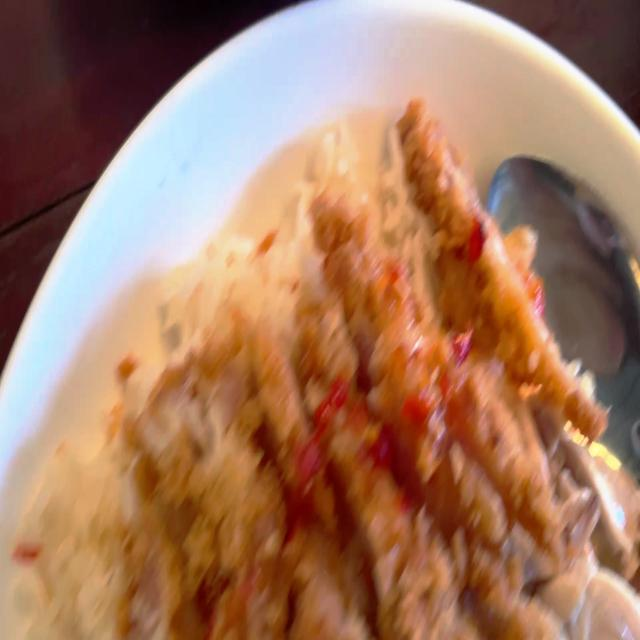boiled_chicken: (544, 426, 640, 640)
chicken_rice: (48, 103, 640, 640)
fried_chicken: (119, 102, 604, 637)
